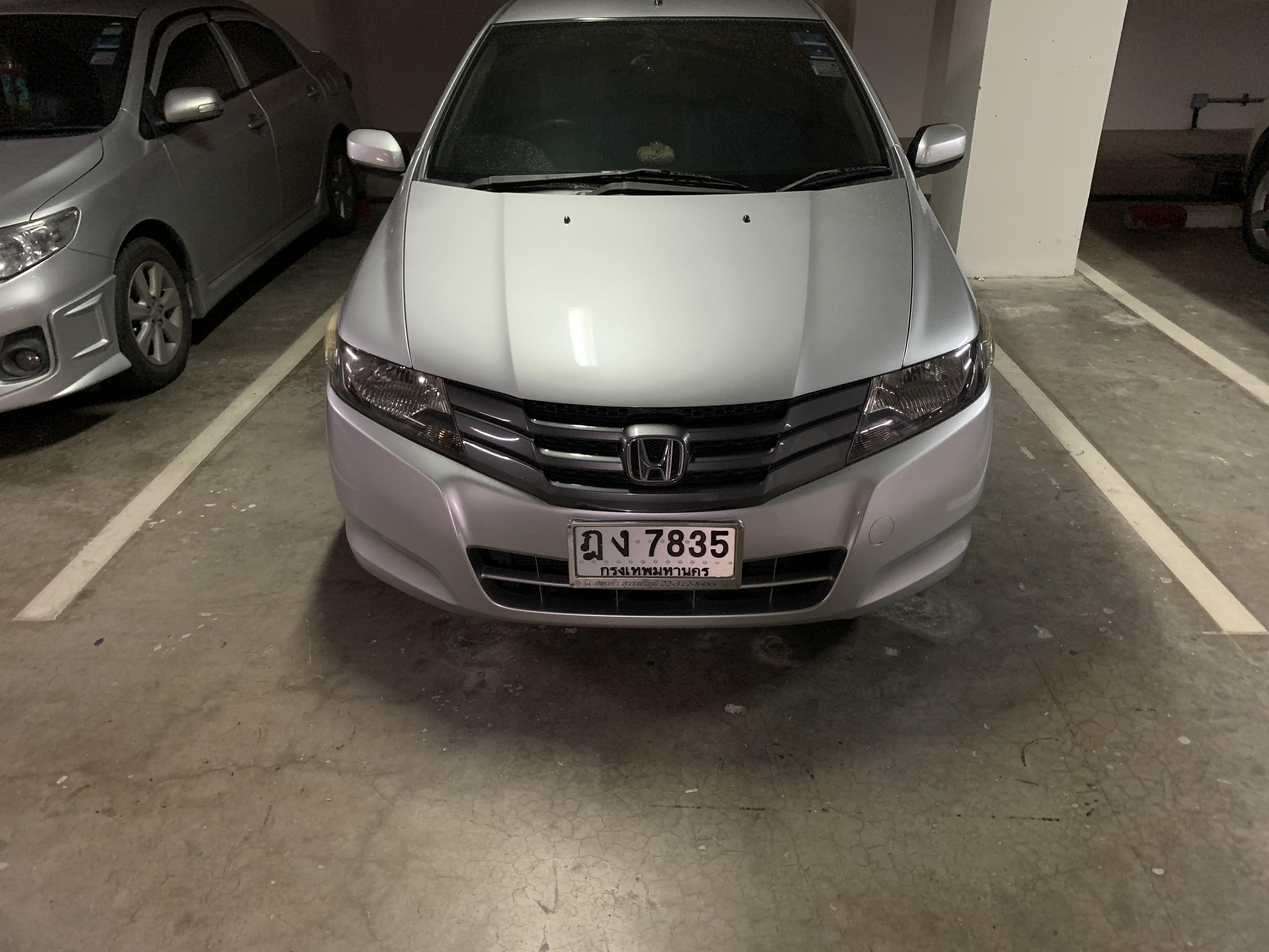license-plate: (566, 515, 745, 593)
